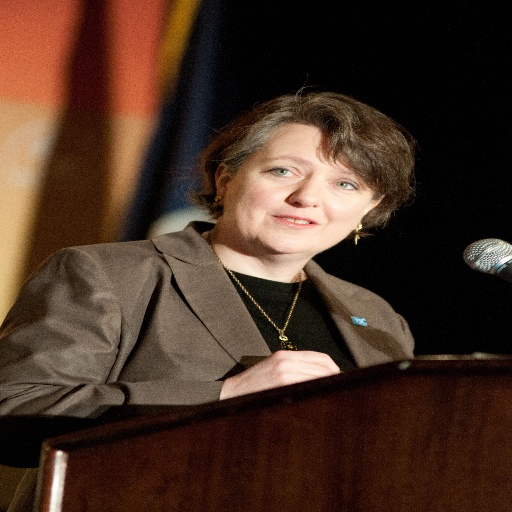hand: (215, 344, 338, 396)
